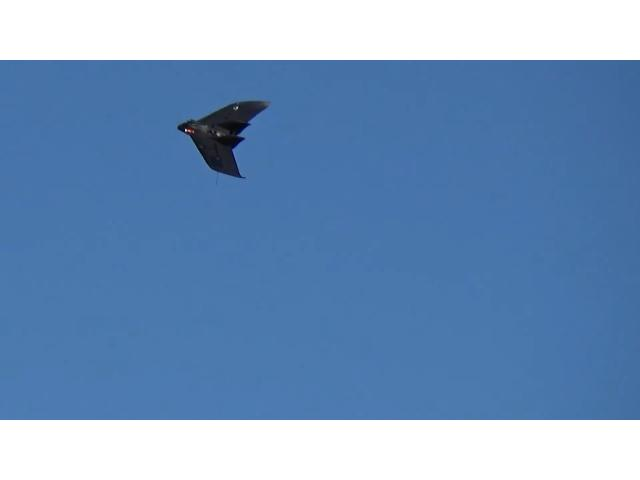Anti-Drone: (162, 88, 296, 190)
